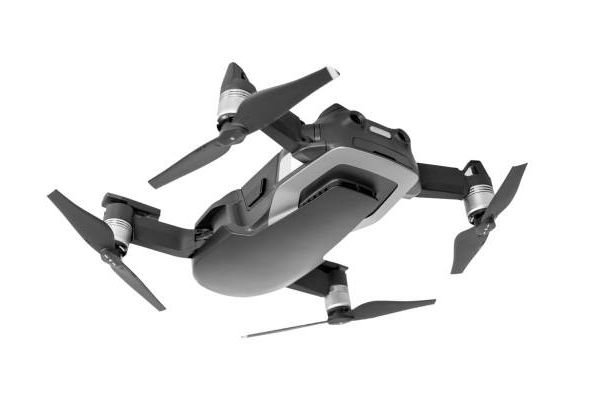Drone: (42, 59, 528, 345)
